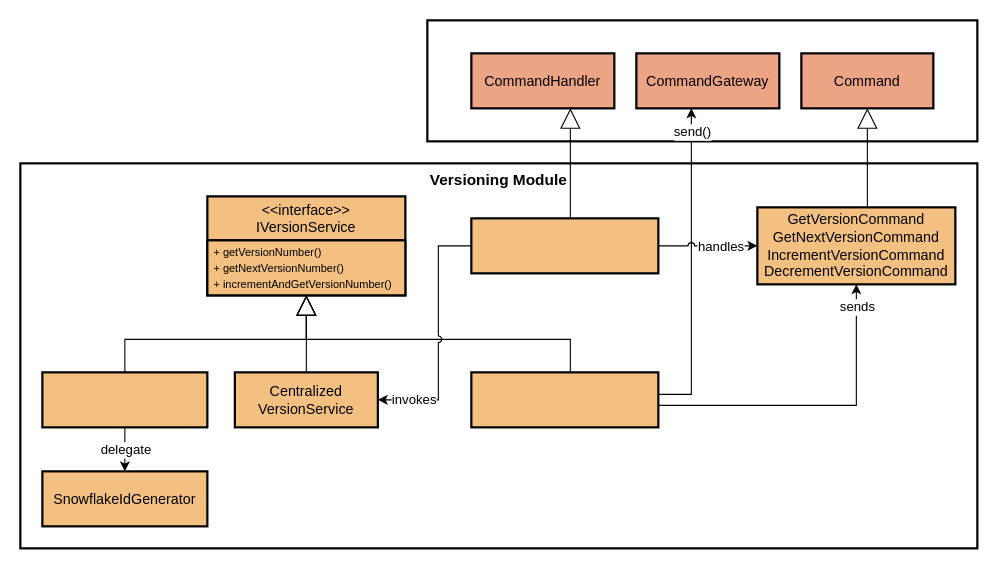
The diagram is 997 pixels wide and 568 high, and some of its shapes have lost their labels. The shapes that lost their labels are listed below. From the top down, each one's box as (x1, y1, x2, y2) in pixels, then its label:
(426, 19, 978, 142): Messaging Module
(470, 217, 659, 274): VersionCommandHandler
(41, 371, 208, 428): DistributedVersion Service
(470, 371, 659, 428): VersionServiceClient
